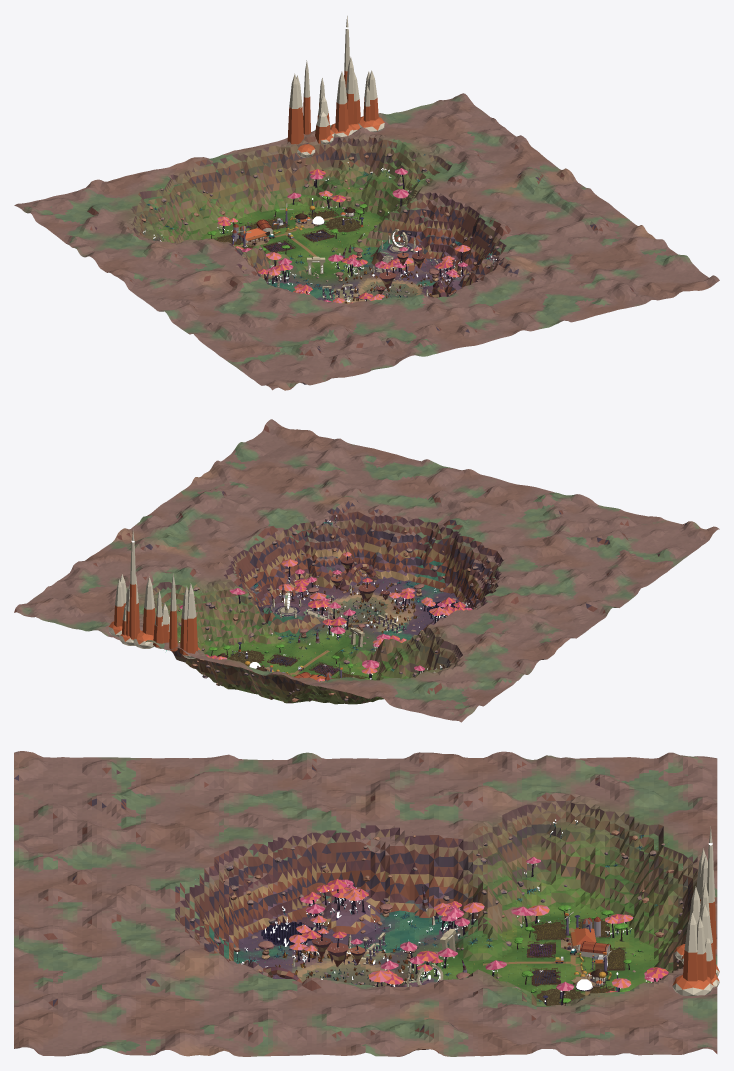
The model's file is world.glb.
The picture shows the model from 3 angles, top to bottom: view 1: azimuth 30°, elevation 25°; view 2: azimuth 150°, elevation 25°; view 3: azimuth 270°, elevation 25°; orthographic projection. The views are drawn at different scales.
Visible parts, largest first — view 1: Terrain, Far_city, Flora_33, Flora_23, Build_24; view 2: Terrain, Far_city, Flora_22, Flora_33, Rock_32, Flora_32; view 3: Terrain, Far_city, Flora_22, Flora_33, Flora_23, Build_24, Rock_22, Flora_24, Ruin_23, Flora_35, Flora_12, Flora_25.
Boxes of the visible parts, left/top/right/bottom form: Terrain: left=14, top=93, right=719, bottom=390; Far_city: left=287, top=16, right=384, bottom=157; Flora_33: left=328, top=246, right=418, bottom=292; Flora_23: left=258, top=252, right=366, bottom=294; Build_24: left=231, top=219, right=295, bottom=252; Terrain: left=14, top=419, right=719, bottom=722; Far_city: left=108, top=529, right=200, bottom=658; Flora_22: left=368, top=587, right=469, bottom=625; Flora_33: left=280, top=592, right=361, bottom=644; Rock_32: left=307, top=535, right=397, bottom=620; Flora_32: left=294, top=556, right=399, bottom=619; Terrain: left=14, top=751, right=717, bottom=1056; Far_city: left=672, top=826, right=719, bottom=995; Flora_22: left=258, top=879, right=368, bottom=973; Flora_33: left=367, top=941, right=457, bottom=986; Flora_23: left=366, top=901, right=484, bottom=971; Build_24: left=526, top=913, right=610, bottom=963; Rock_22: left=247, top=881, right=365, bottom=973; Flora_24: left=485, top=905, right=595, bottom=949; Ruin_23: left=366, top=916, right=455, bottom=964; Flora_35: left=605, top=959, right=668, bottom=992; Flora_12: left=300, top=879, right=360, bottom=917; Flora_25: left=601, top=904, right=657, bottom=956.
Size of the model in its own units: 352 by 123 by 353.
